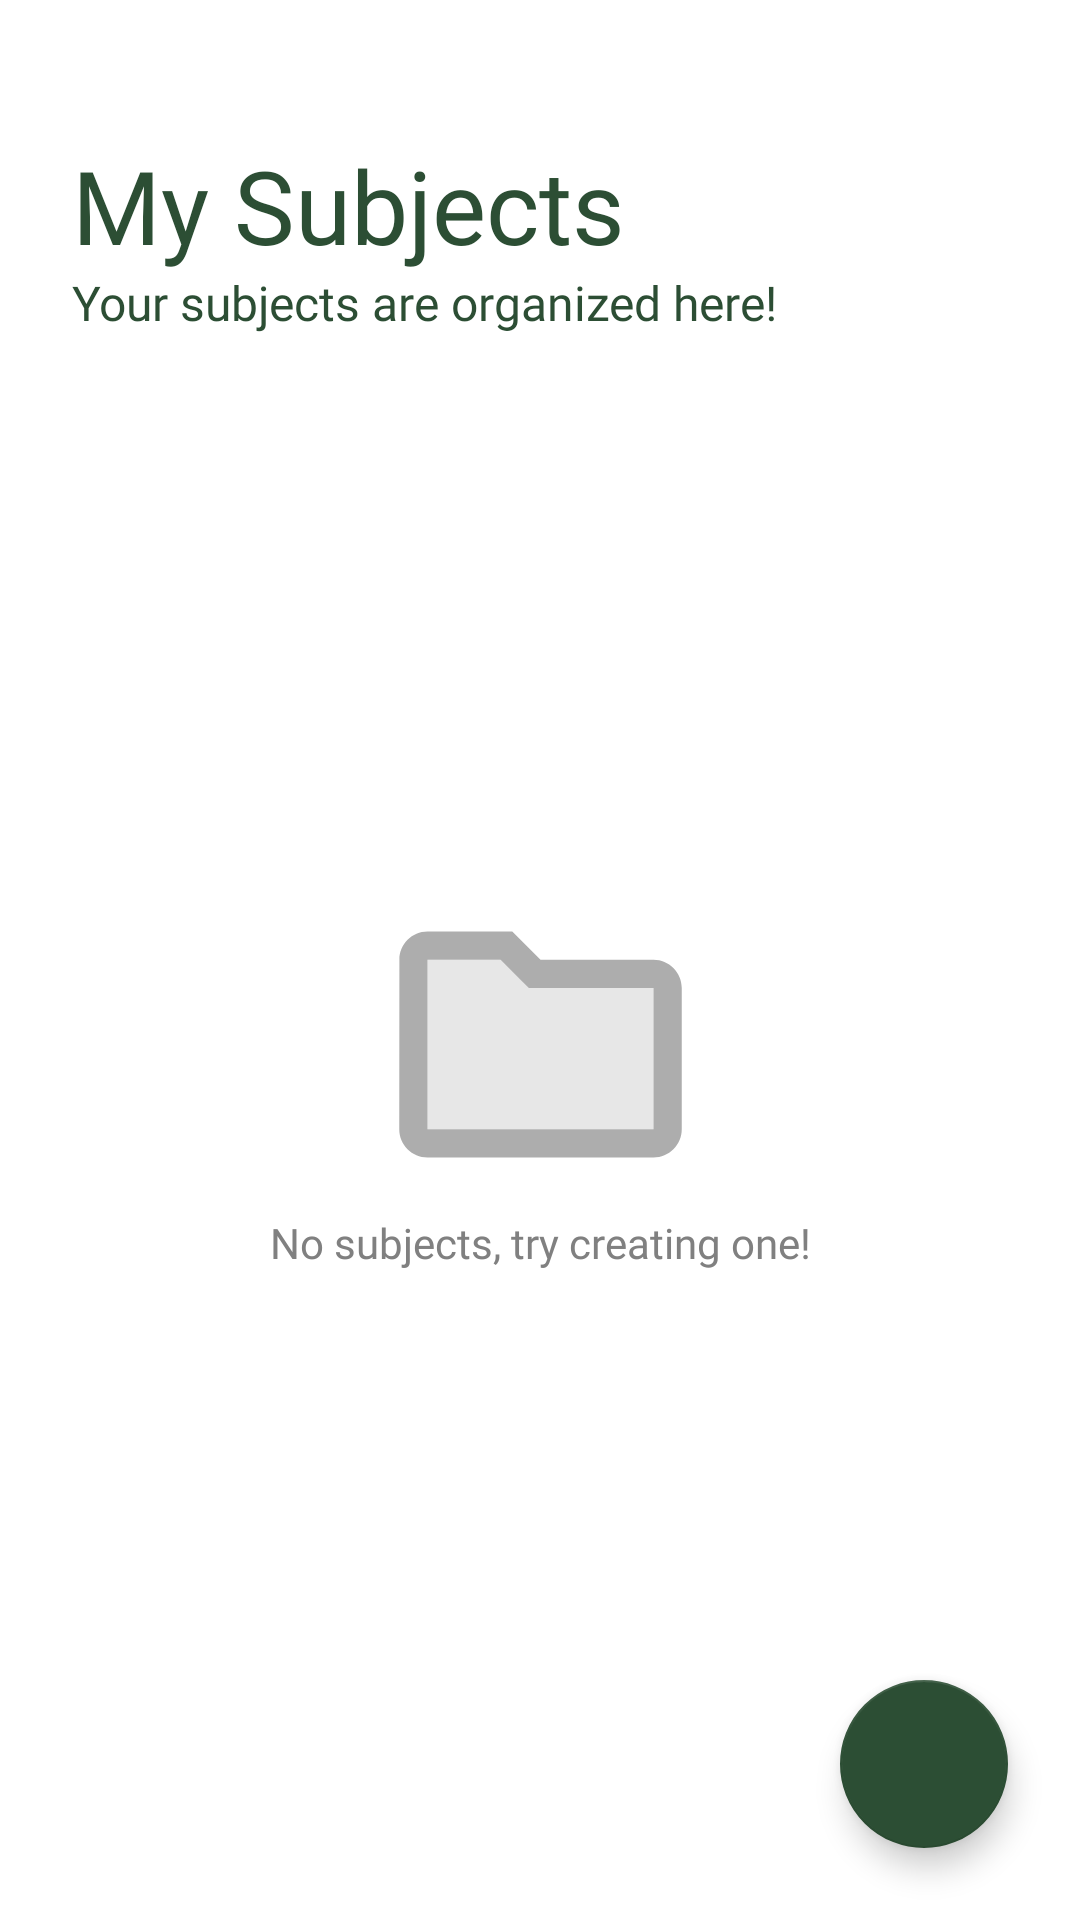

Point at icon controls on the screen. Image size 1080px x 1920px, points as (x=x, y=y).
folder: (x=540, y=1044)
